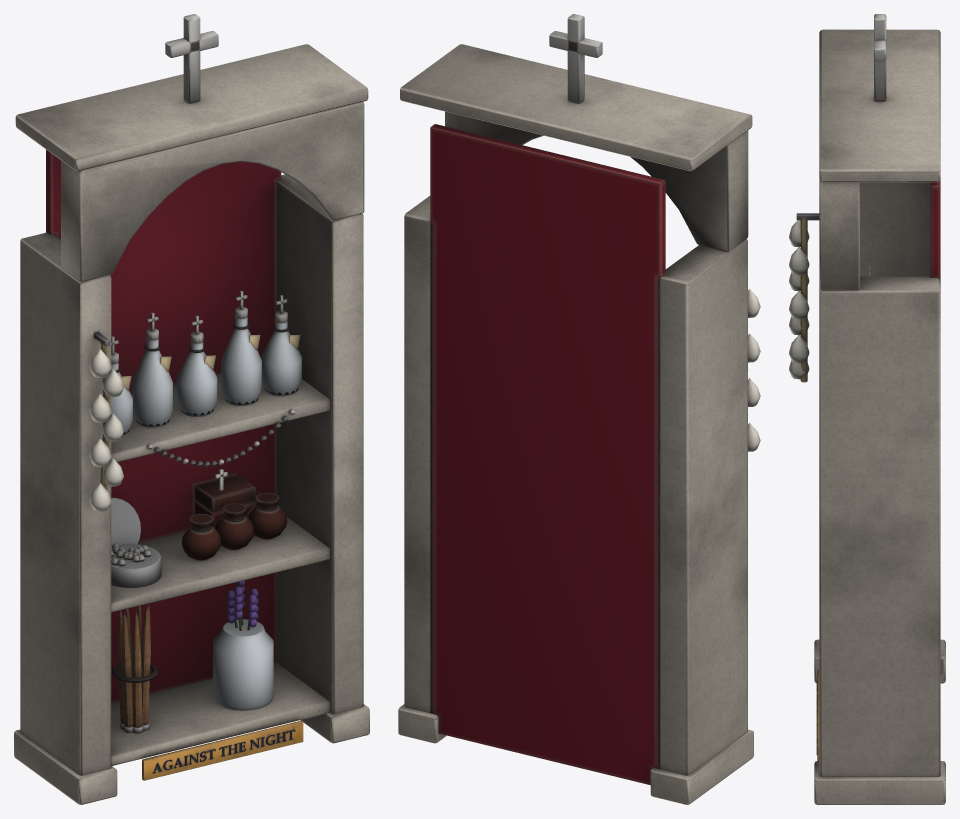
Rendered from HuntersReliquary.fbx.
3 renders of one model, left to right at view 1: azimuth 30°, elevation 25°; view 2: azimuth 150°, elevation 25°; view 3: azimuth 270°, elevation 25°, orthographic.
Parts seen in each view (by area): view 1: HuntersReliquary_Main, HuntersReliquary_Glass; view 2: HuntersReliquary_Main; view 3: HuntersReliquary_Main.
Boxes of the visible parts, x1,y1,x2,y2 form: HuntersReliquary_Main: [14, 14, 369, 804]; HuntersReliquary_Glass: [111, 317, 301, 710]; HuntersReliquary_Main: [398, 14, 760, 804]; HuntersReliquary_Main: [789, 14, 945, 804].
Bounding box in the file's own units: 330 × 785 × 155.
